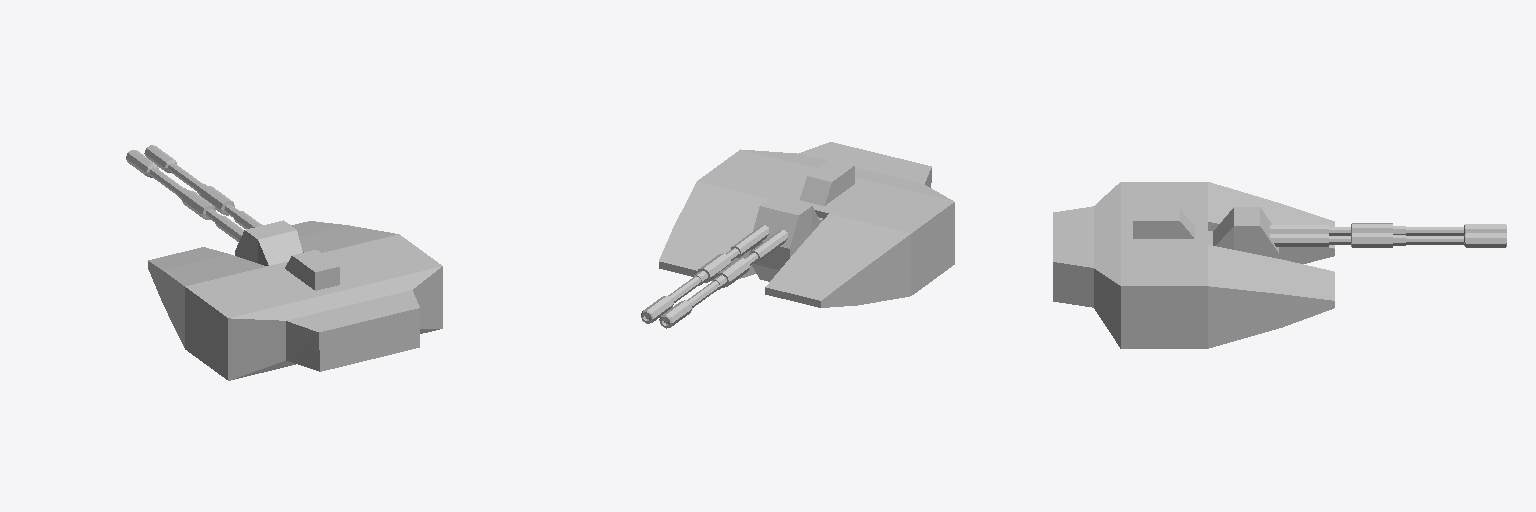
The model's file is Cabeza.obj.
3 views of the same model, side by side, from view 1: azimuth 30°, elevation 25°; view 2: azimuth 150°, elevation 25°; view 3: azimuth 270°, elevation 25° (orthographic).
Parts seen in each view (by area): view 1: Cabeza; view 2: Cabeza; view 3: Cabeza.
Boxes of the visible parts, box(x1,y1,x2,y2) form: Cabeza: box(126, 145, 442, 380); Cabeza: box(641, 142, 954, 328); Cabeza: box(1053, 182, 1506, 348).
Size of the model in its own units: 2.92 by 1.06 by 5.36.